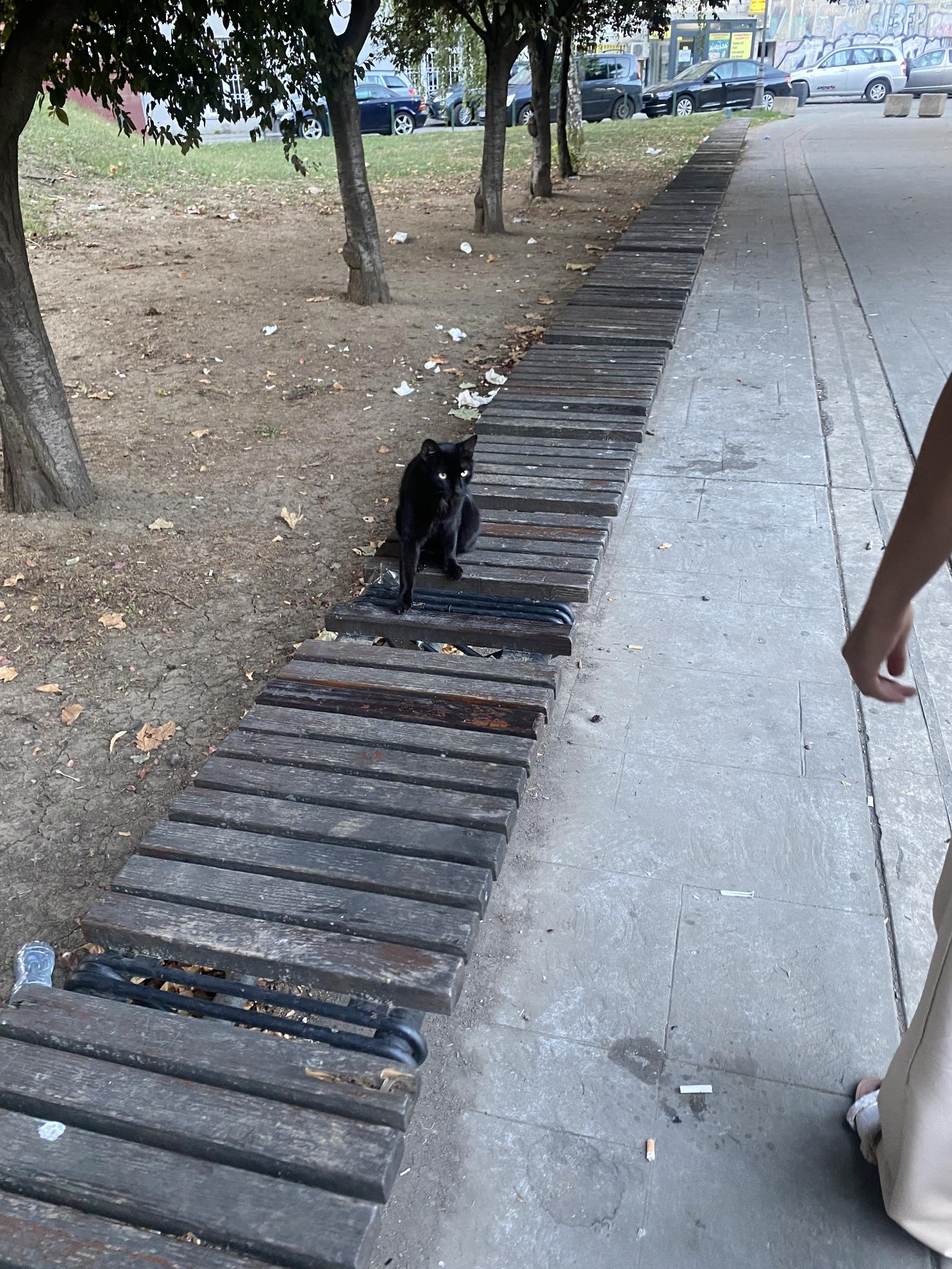macka: (394, 432, 481, 614)
